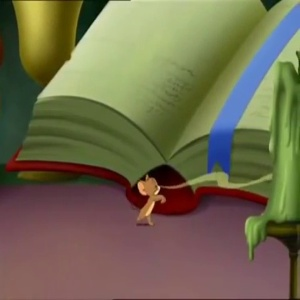Jerry: (136, 173, 163, 194)
